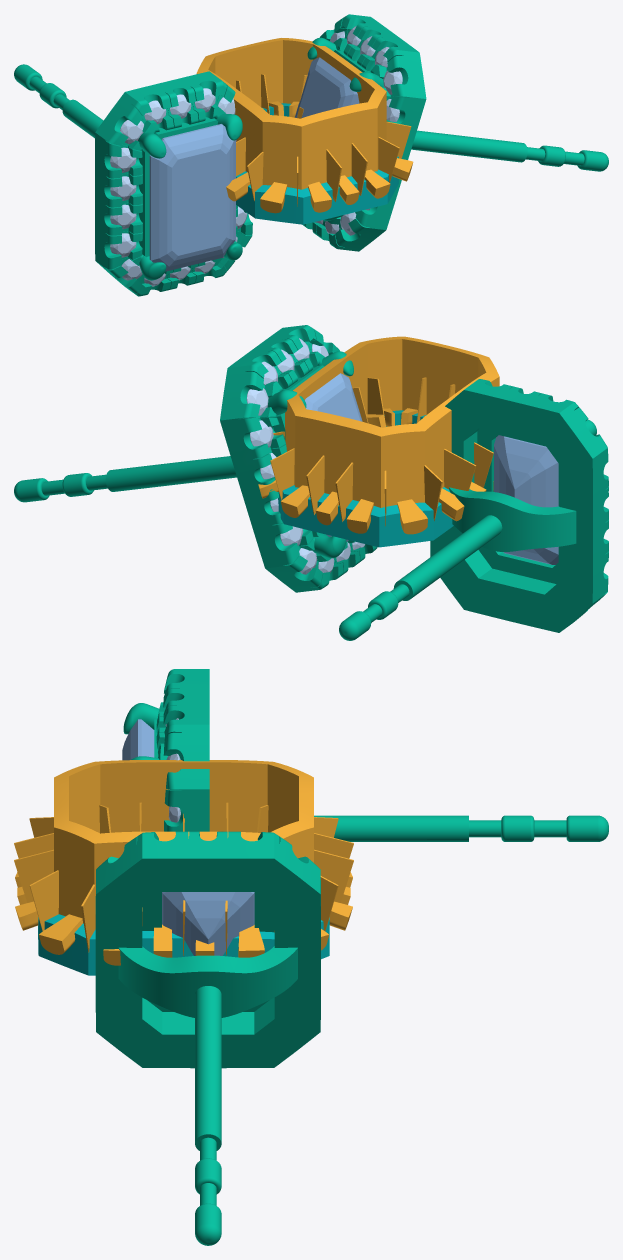
The picture shows the model from 3 angles, top to bottom: view 1: azimuth 30°, elevation 25°; view 2: azimuth 150°, elevation 25°; view 3: azimuth 270°, elevation 25°; orthographic projection. The views are drawn at different scales.
Visible parts, largest first — view 1: VEAR058.3dm, Diamond_Emerald (×2), Micro Pave Cut Channel Cutter (×10), Head Prong (×3), Bezel, Diamond_Round (×2); view 2: VEAR058.3dm, Micro Pave Cut Channel Cutter (×12), Diamond_Emerald (×2), Bezel (×2), Head Prong (×2); view 3: VEAR058.3dm, Diamond_Emerald (×2), Micro Pave Cut Channel Cutter (×4), Bezel.
Part boxes in pixels (<box>): VEAR058.3dm: <box>14,14,608,296</box>; Diamond_Emerald (×2): <box>149,57,359,271</box>; Micro Pave Cut Channel Cutter (×10): <box>226,121,411,213</box>; Head Prong (×3): <box>138,113,242,280</box>; Bezel: <box>139,117,217,257</box>; Diamond_Round (×2): <box>110,120,143,172</box>; VEAR058.3dm: <box>14,325,608,640</box>; Micro Pave Cut Channel Cutter (×12): <box>270,377,493,534</box>; Diamond_Emerald (×2): <box>305,373,558,564</box>; Bezel (×2): <box>273,365,559,583</box>; Head Prong (×2): <box>267,389,346,558</box>; VEAR058.3dm: <box>38,669,608,1245</box>; Diamond_Emerald (×2): <box>122,719,254,955</box>; Micro Pave Cut Channel Cutter (×4): <box>14,849,353,954</box>; Bezel: <box>142,892,274,1011</box>.
Bounding box in the file's own units: 3.22 × 1.17 × 2.39.
